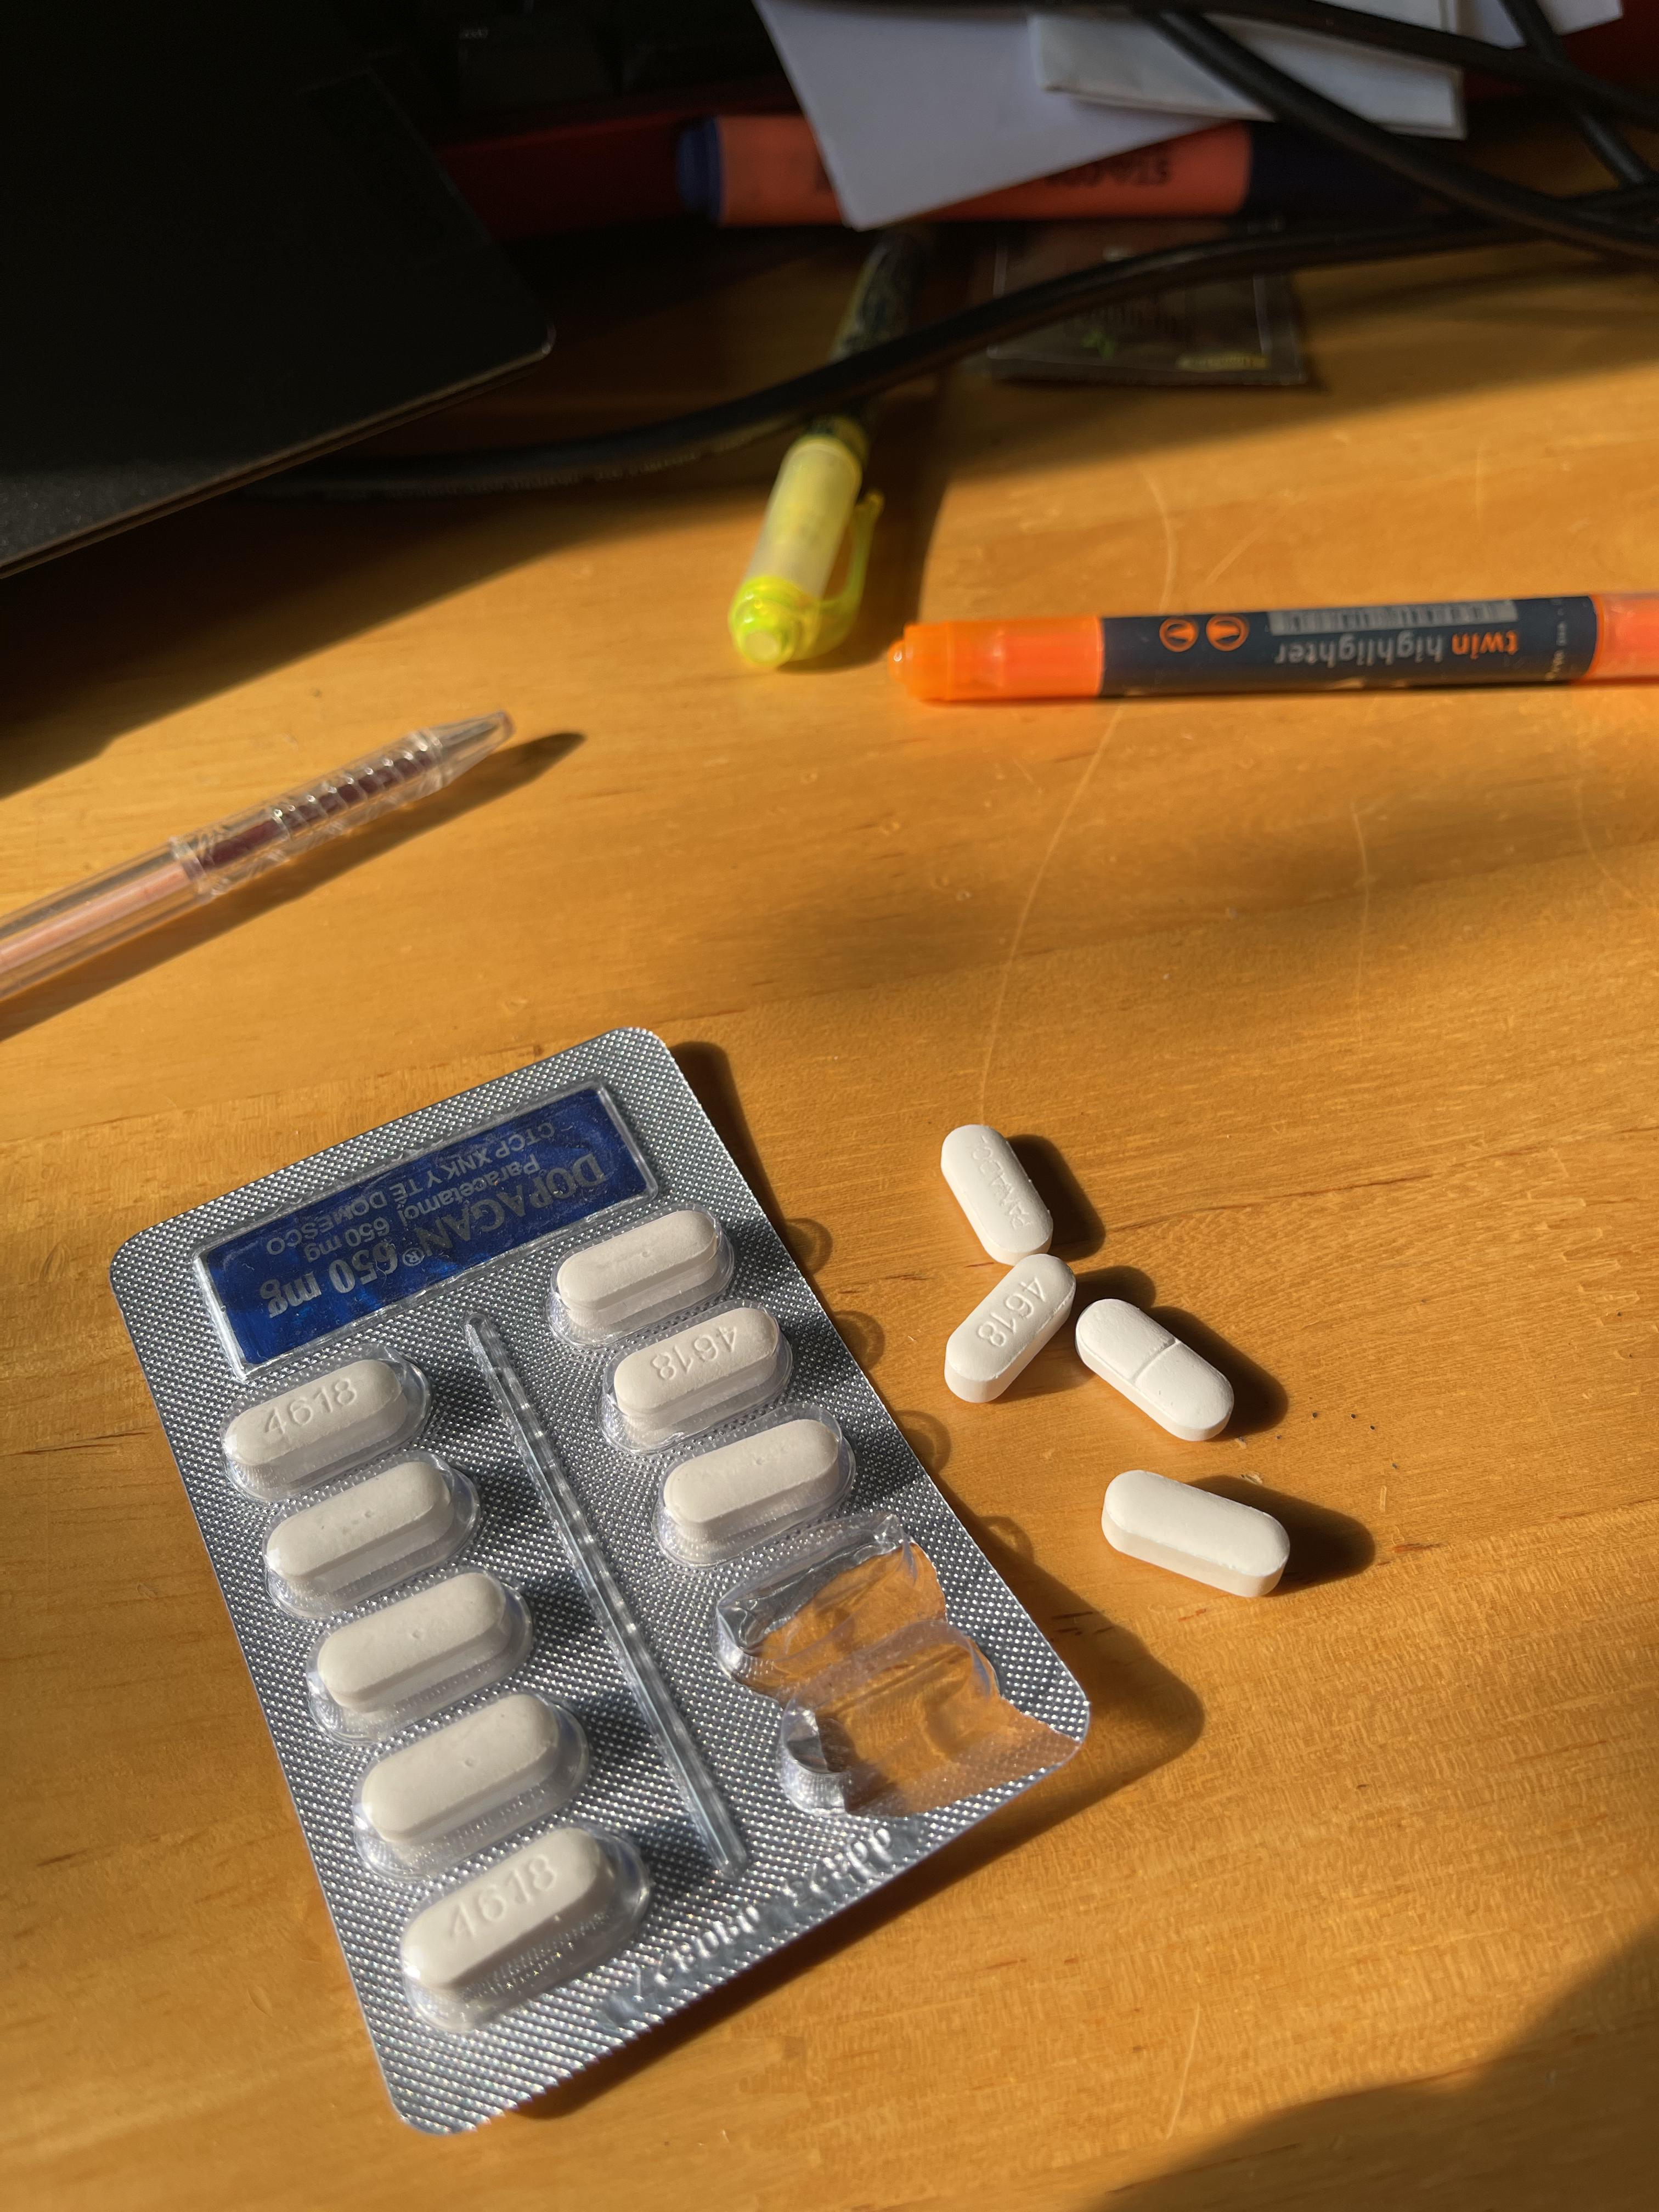Paracetamol_350mg: (1075, 1298, 1236, 1439), (936, 1127, 1056, 1261)
Paracetamol_500mg: (357, 1693, 580, 1872), (399, 1825, 613, 2008), (305, 1564, 525, 1730), (265, 1454, 464, 1611), (653, 1416, 850, 1564), (218, 1350, 422, 1489), (610, 1305, 788, 1447), (551, 1207, 727, 1341), (1098, 1470, 1277, 1601), (943, 1252, 1075, 1399)
